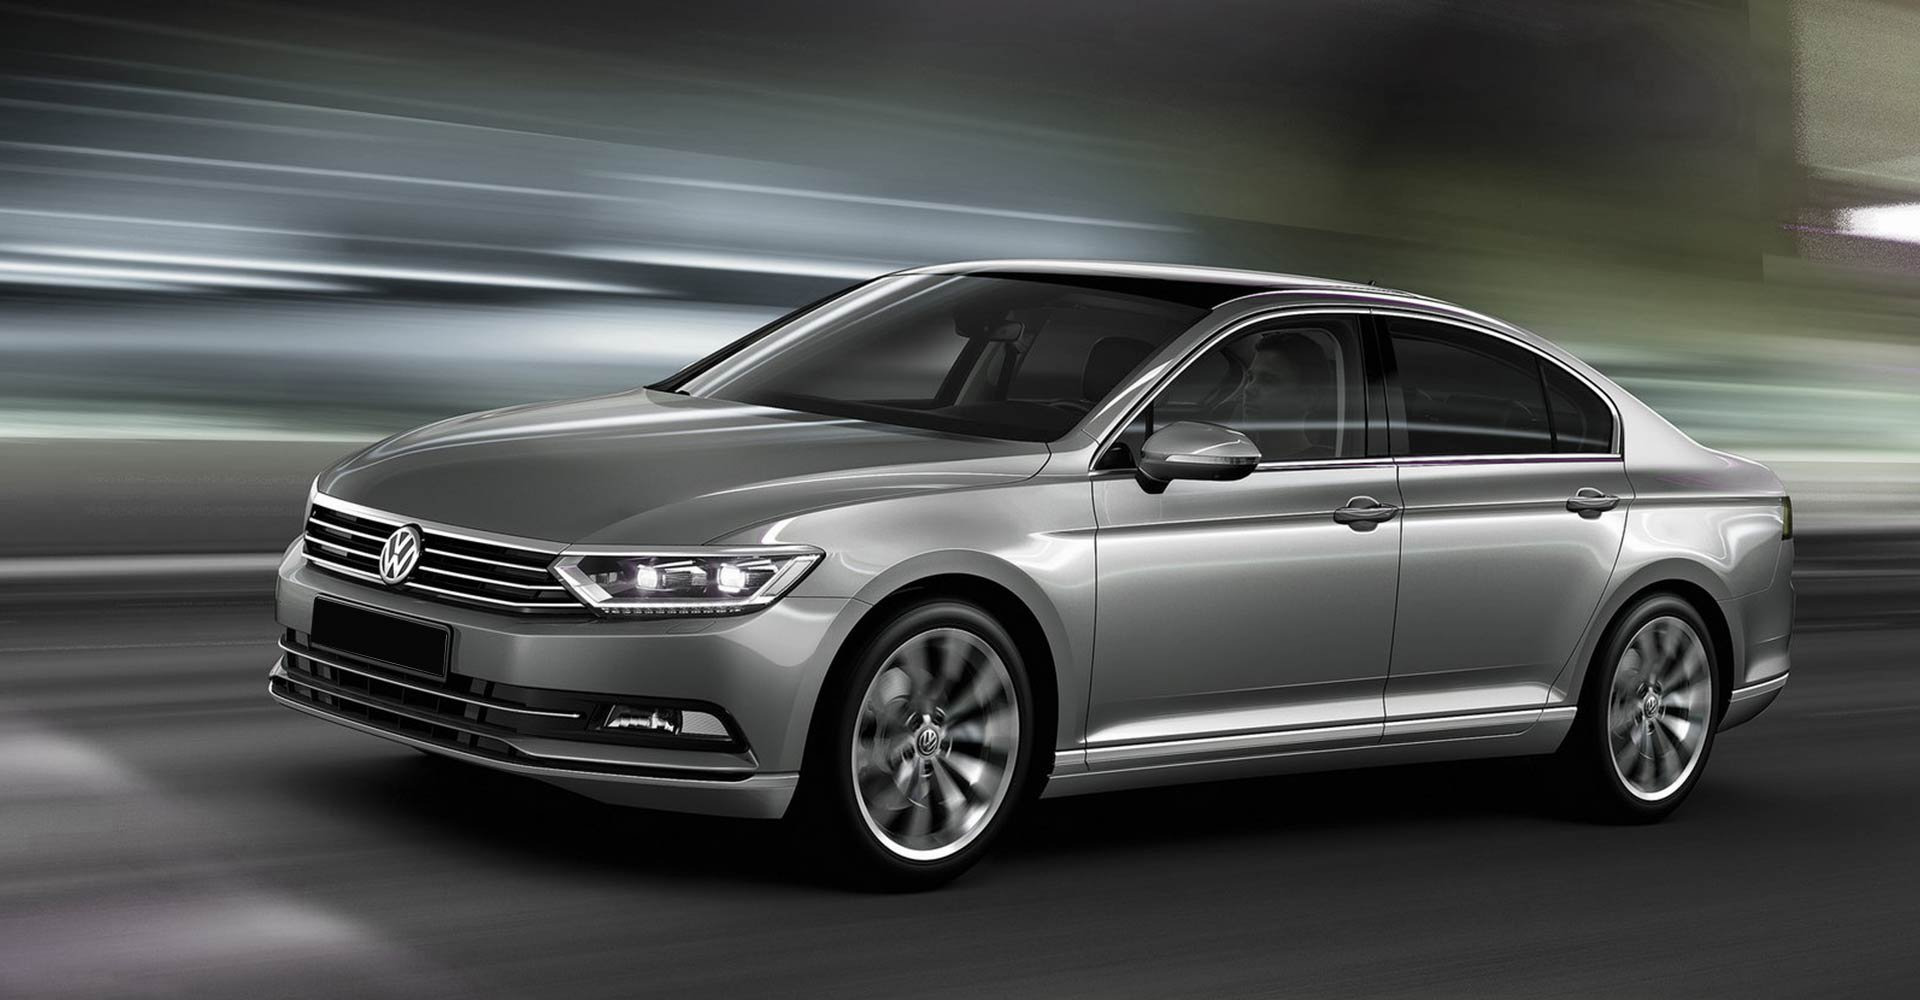car: (244, 241, 1810, 850)
